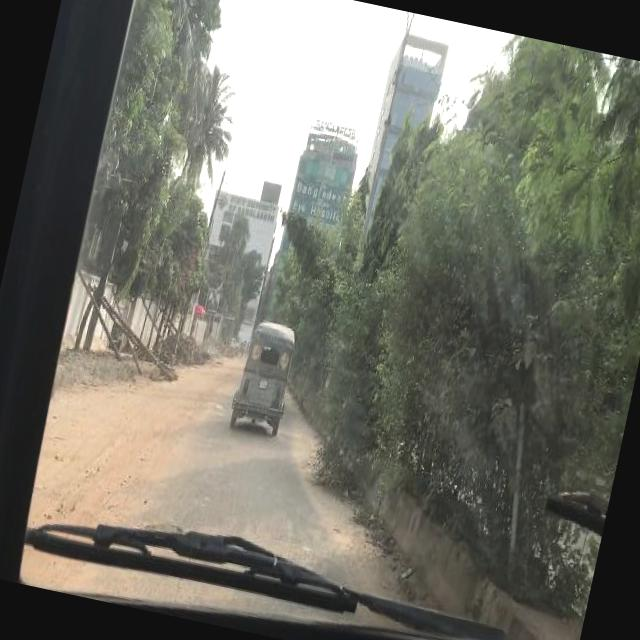motorcycle: (227, 318, 300, 432)
